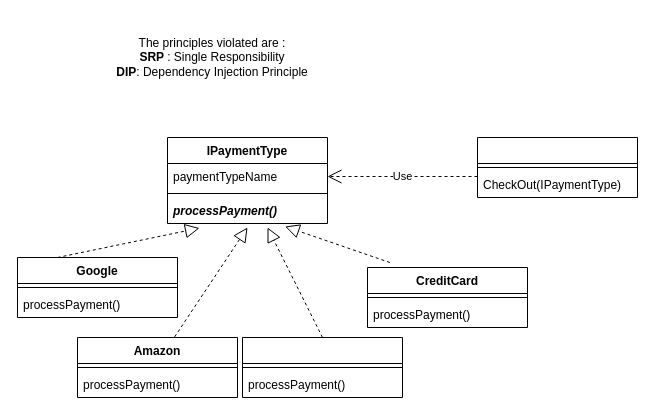
The diagram is 655 pixels wide and 417 high, and some of its shapes have lost their labels. Each missing label, with the box of its shape:
OnlineCart: (476, 136, 638, 198)
Paypal: (242, 336, 402, 398)
